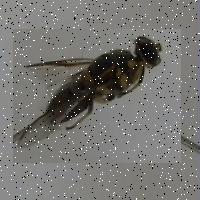Oriental-fruit-fly: (13, 29, 181, 163)
